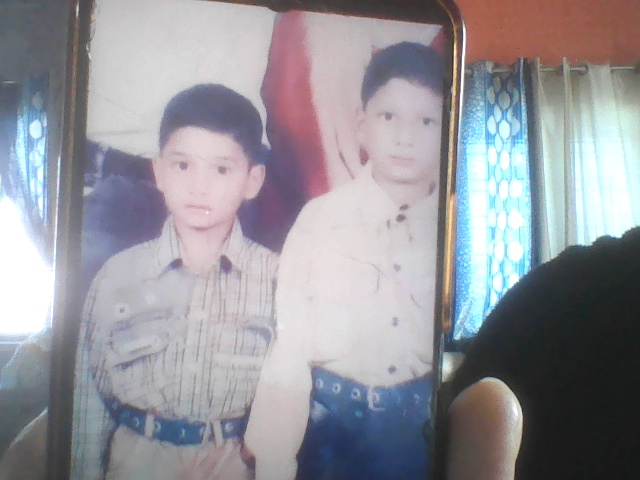fake: (162, 96, 261, 237)
